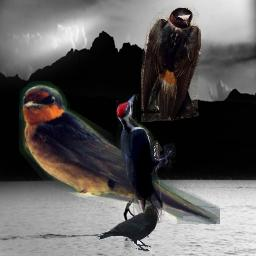Crow: (96, 205, 160, 252)
Swallow: (19, 81, 220, 224), (141, 7, 201, 122)
Woodpecker: (116, 94, 176, 223)
